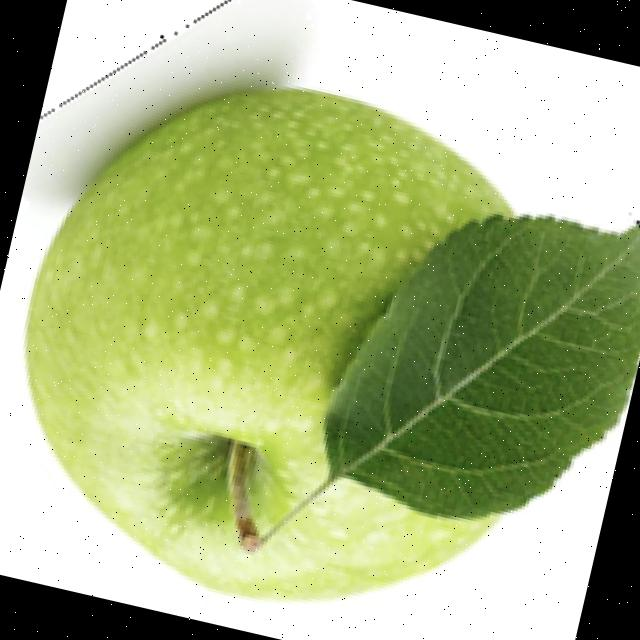apple: (20, 18, 640, 606)
